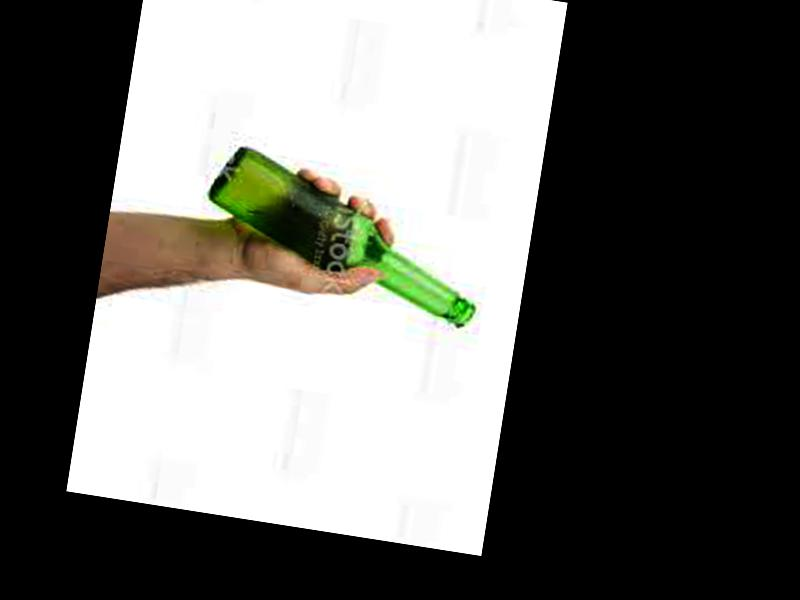Beer: (197, 142, 496, 330)
